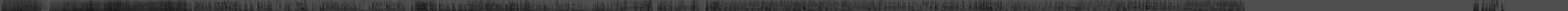Moan: (1145, 0, 1148, 11), (1135, 0, 1136, 11)
